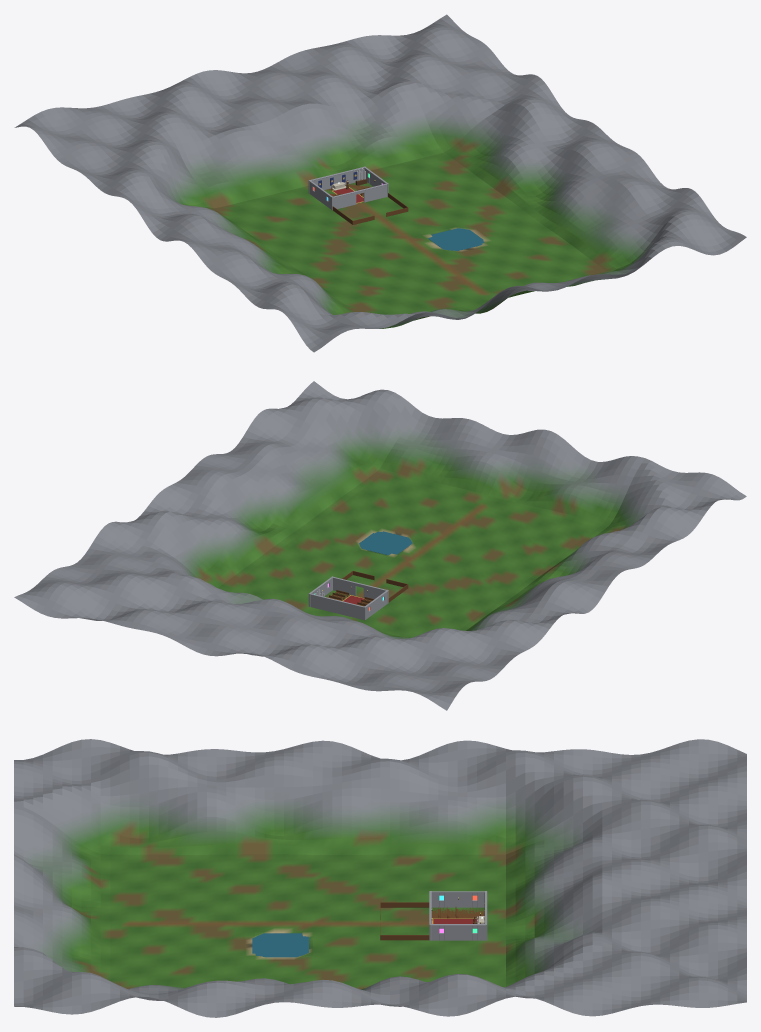
The model's file is world.glb.
The picture shows the model from 3 angles, top to bottom: view 1: azimuth 30°, elevation 25°; view 2: azimuth 150°, elevation 25°; view 3: azimuth 270°, elevation 25°; orthographic projection. The views are drawn at different scales.
Visible parts, largest first — view 1: terrain, Cube.001; view 2: terrain, Cube.001, Cube.003; view 3: terrain, Cube.001, Cube.002.
Part boxes in pixels (left/top/right/bottom): terrain: left=14, top=14, right=746, bottom=352; Cube.001: left=428, top=228, right=484, bottom=250; terrain: left=14, top=381, right=746, bottom=710; Cube.001: left=359, top=531, right=412, bottom=555; Cube.003: left=310, top=595, right=363, bottom=619; terrain: left=14, top=739, right=746, bottom=1017; Cube.001: left=252, top=933, right=308, bottom=957; Cube.002: left=431, top=907, right=484, bottom=930.
Size of what is drawn, in the model's own units: 110 by 12.59 by 132.
